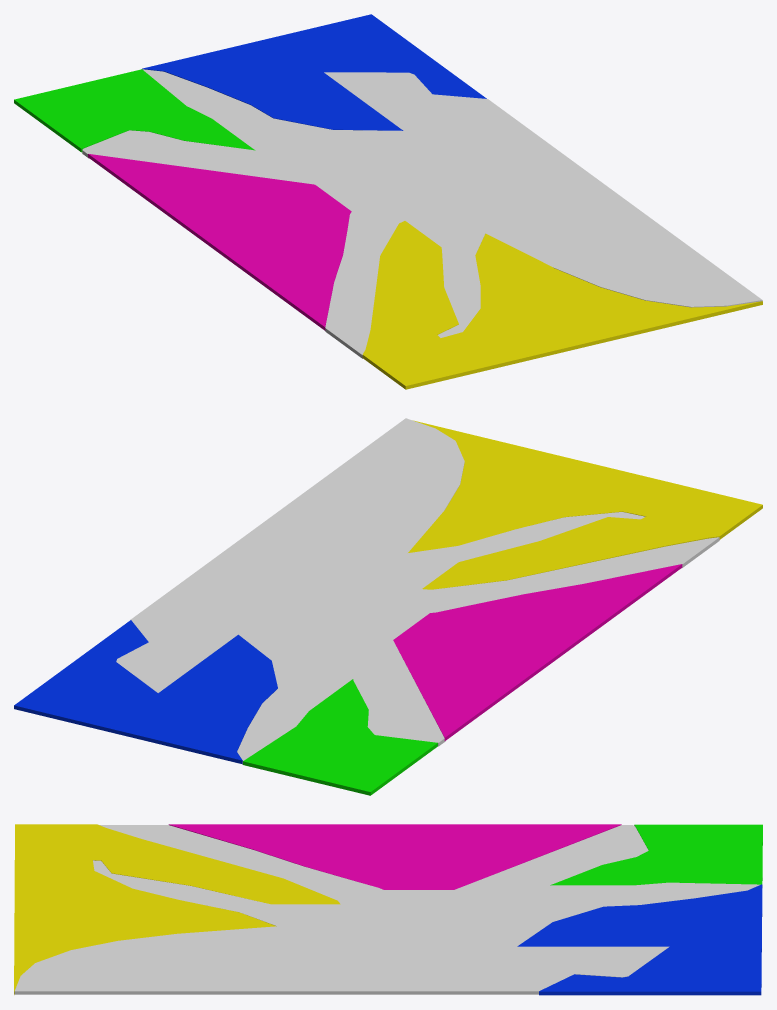
File: orumcek.fbx
3 views of the same model, one above another, from view 1: azimuth 30°, elevation 25°; view 2: azimuth 150°, elevation 25°; view 3: azimuth 270°, elevation 25° (orthographic). The views are drawn at different scales.
Parts seen in each view (by area): view 1: Cube.045, Cube.049, Cube.048, Cube.050, Cube.047; view 2: Cube.045, Cube.049, Cube.048, Cube.050, Cube.047; view 3: Cube.045, Cube.049, Cube.048, Cube.050, Cube.047.
Boxes of the visible parts, <box> form: Cube.045: <box>82,69,762,358</box>; Cube.049: <box>362,221,762,389</box>; Cube.048: <box>88,154,351,330</box>; Cube.050: <box>142,14,486,130</box>; Cube.047: <box>14,69,255,152</box>; Cube.045: <box>116,418,719,764</box>; Cube.049: <box>408,420,762,589</box>; Cube.048: <box>393,564,682,740</box>; Cube.050: <box>14,620,277,764</box>; Cube.047: <box>243,679,437,795</box>; Cube.045: <box>14,825,762,994</box>; Cube.049: <box>14,824,340,994</box>; Cube.048: <box>168,824,621,889</box>; Cube.050: <box>517,884,762,995</box>; Cube.047: <box>550,824,762,885</box>.
Size of the model in its own units: 30.77 by 0.4399 by 58.58.
